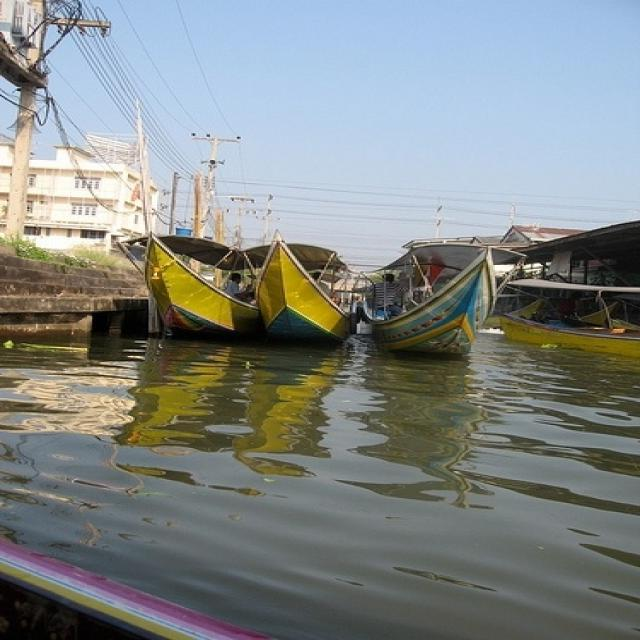boat: (362, 230, 515, 360), (126, 232, 262, 356), (252, 230, 366, 362)
